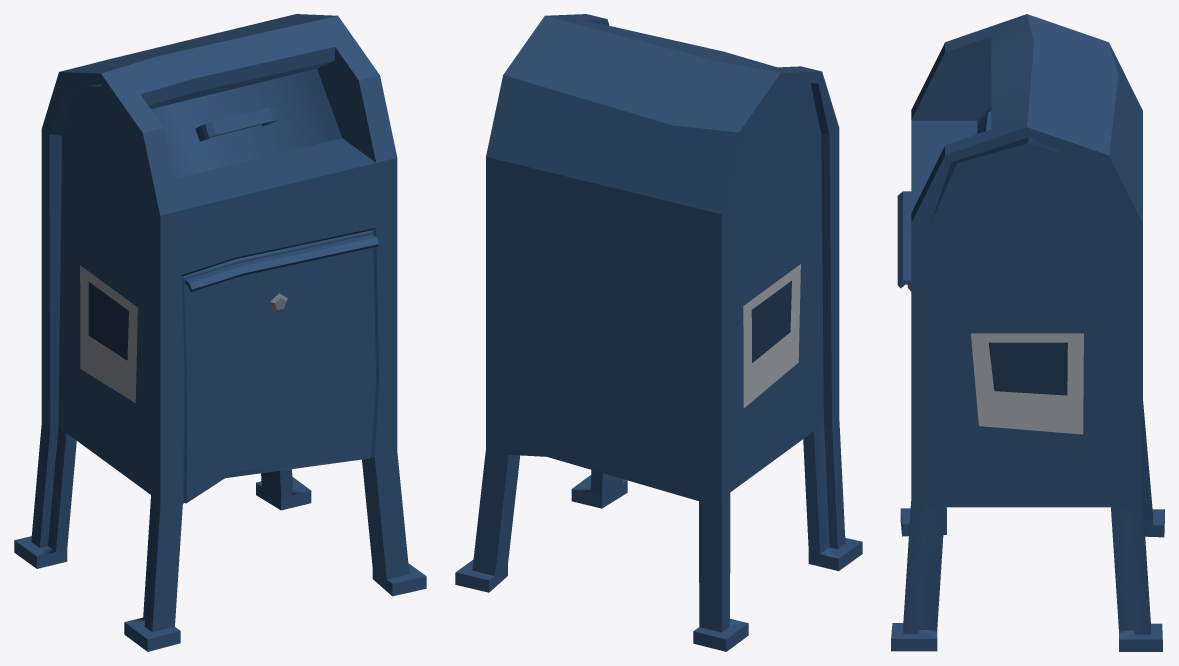
The model's file is mailbox.glb.
3 renders of one model, left to right at view 1: azimuth 30°, elevation 25°; view 2: azimuth 150°, elevation 25°; view 3: azimuth 270°, elevation 25°, orthographic. The views are drawn at different scales.
Visible parts, largest first — view 1: SM_Prop_Mailbox_01; view 2: SM_Prop_Mailbox_01; view 3: SM_Prop_Mailbox_01.
Part boxes in pixels (x1,y1,x2,y2): SM_Prop_Mailbox_01: (14,14,426,651); SM_Prop_Mailbox_01: (455,14,862,651); SM_Prop_Mailbox_01: (891,14,1164,651).
Bounding box in the file's own units: 0.6656 × 1.22 × 0.5861.
Materials: 1 (1 with a texture image).
